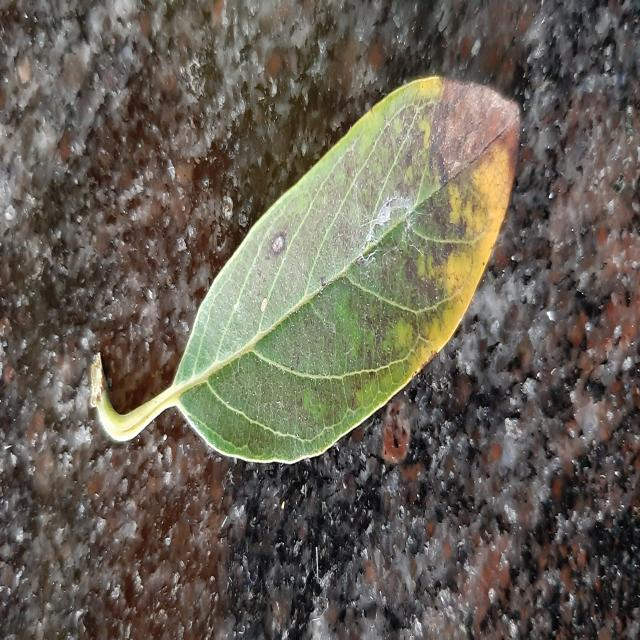leaf spot: (171, 76, 519, 461)
